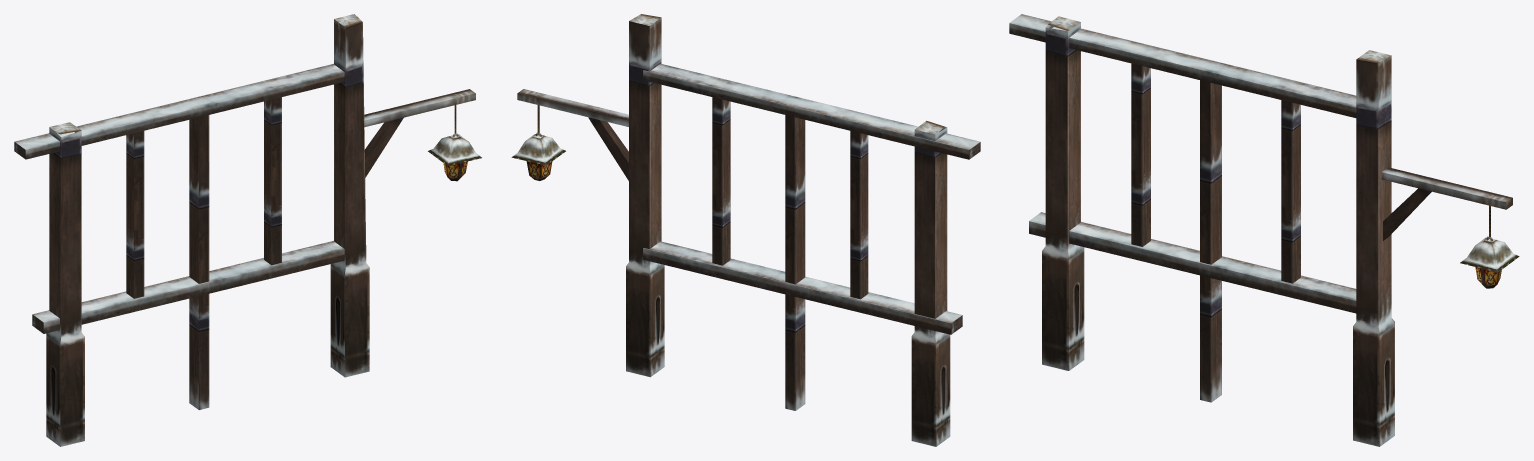
File: yw_xuesebingfeng_mujia05.FBX
The picture shows the model from 3 angles, left to right: view 1: azimuth 30°, elevation 25°; view 2: azimuth 150°, elevation 25°; view 3: azimuth 330°, elevation 25°; orthographic projection. The views are drawn at different scales.
Parts seen in each view (by area): view 1: yw_xuesebingfeng_mujia05; view 2: yw_xuesebingfeng_mujia05; view 3: yw_xuesebingfeng_mujia05.
Boxes of the visible parts, x1=… form: yw_xuesebingfeng_mujia05: x1=14, y1=14, x2=481, y2=446; yw_xuesebingfeng_mujia05: x1=511, y1=14, x2=980, y2=446; yw_xuesebingfeng_mujia05: x1=1009, y1=14, x2=1519, y2=446.
Bounding box in the file's own units: 1006 × 740 × 77.63.
